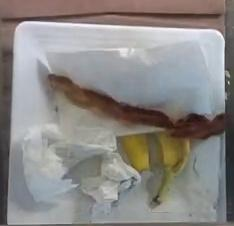beans: (48, 76, 229, 139)
fruit: (119, 133, 148, 170)
